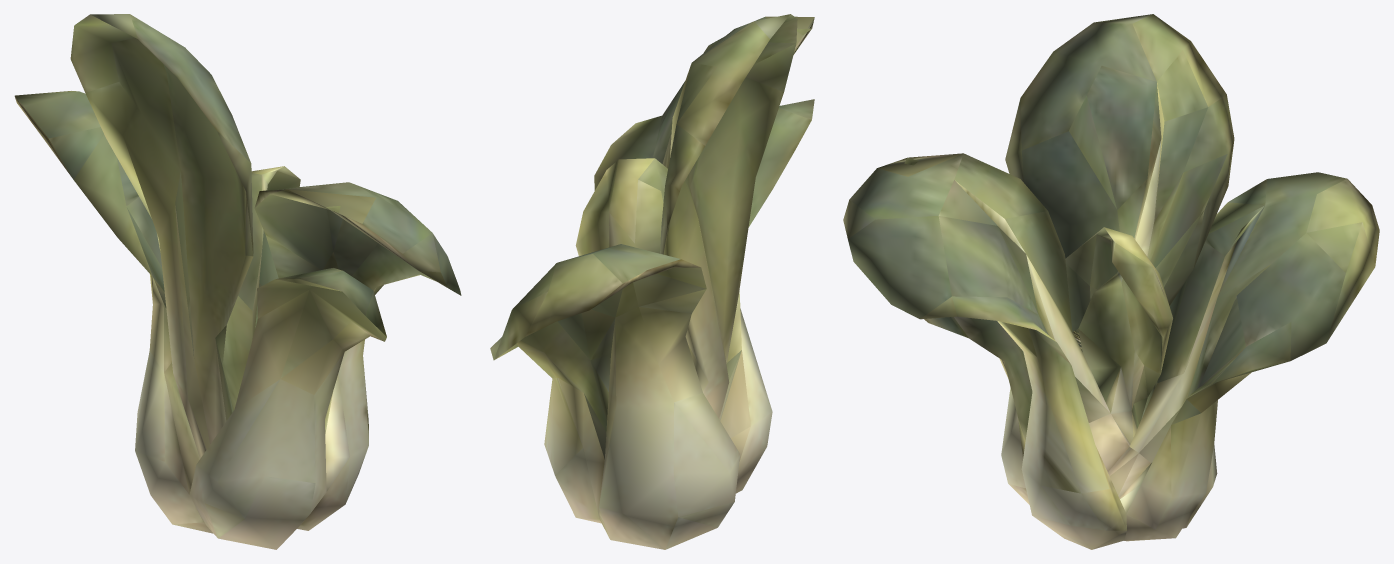
File: lingcao_shengling_young.obj
3 views of the same model, side by side, from view 1: azimuth 30°, elevation 25°; view 2: azimuth 150°, elevation 25°; view 3: azimuth 270°, elevation 25° (orthographic). The views are drawn at different scales.
Parts seen in each view (by area): view 1: lingcao_shengling_young; view 2: lingcao_shengling_young; view 3: lingcao_shengling_young.
Boxes of the visible parts, x1=… form: lingcao_shengling_young: x1=14, y1=14, x2=461, y2=549; lingcao_shengling_young: x1=490, y1=14, x2=814, y2=549; lingcao_shengling_young: x1=843, y1=14, x2=1379, y2=549.
Size of the model in its own units: 0.139 by 0.2887 by 0.2988.
Materials: 1 (1 with a texture image).
